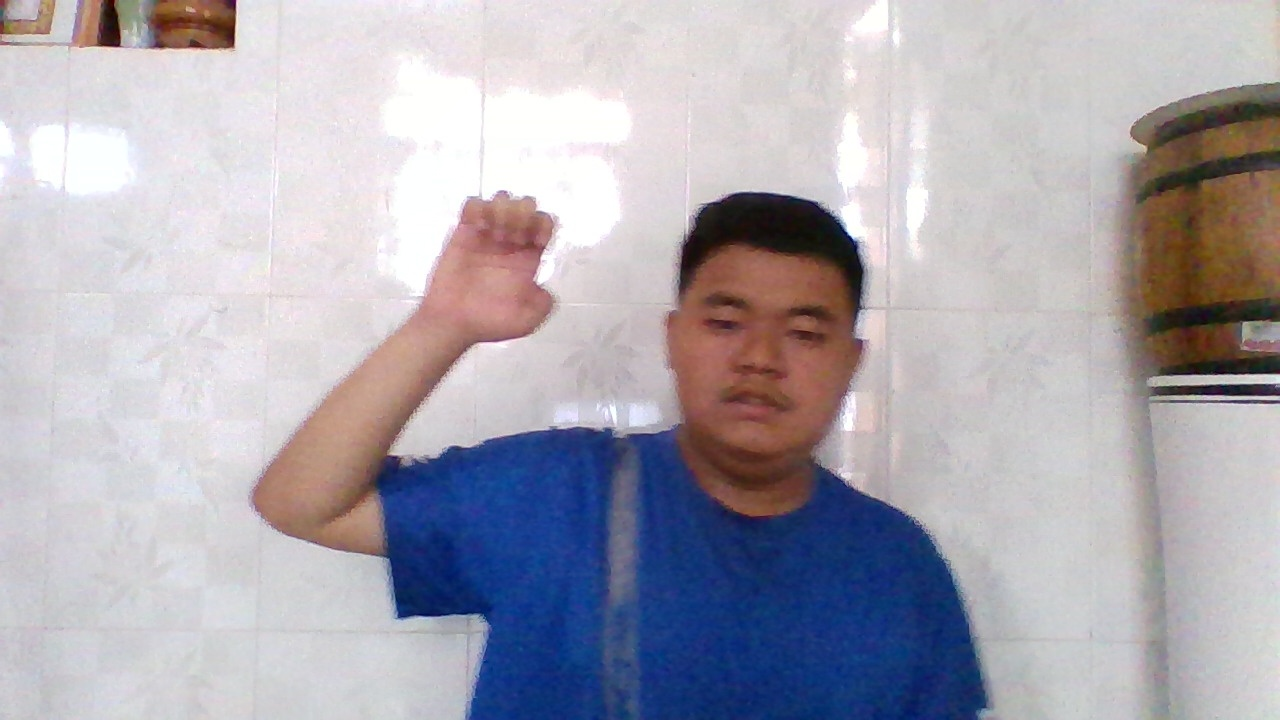E: (440, 181, 563, 347)
